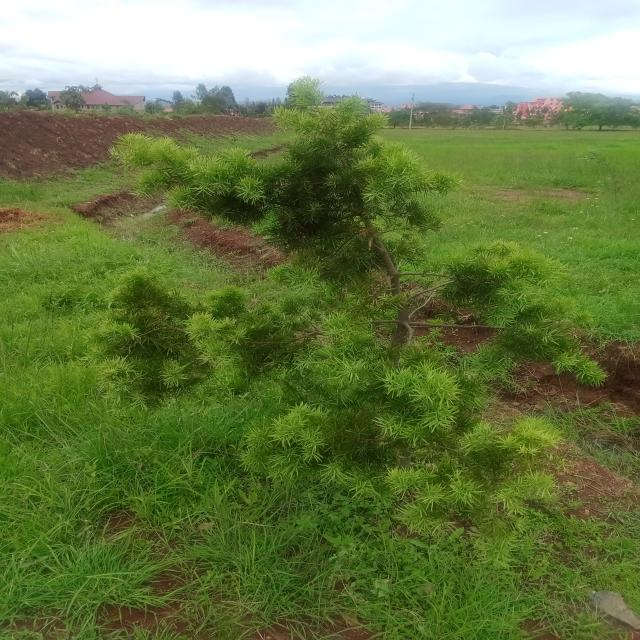Podocarpus falcatus: (118, 80, 606, 551)
